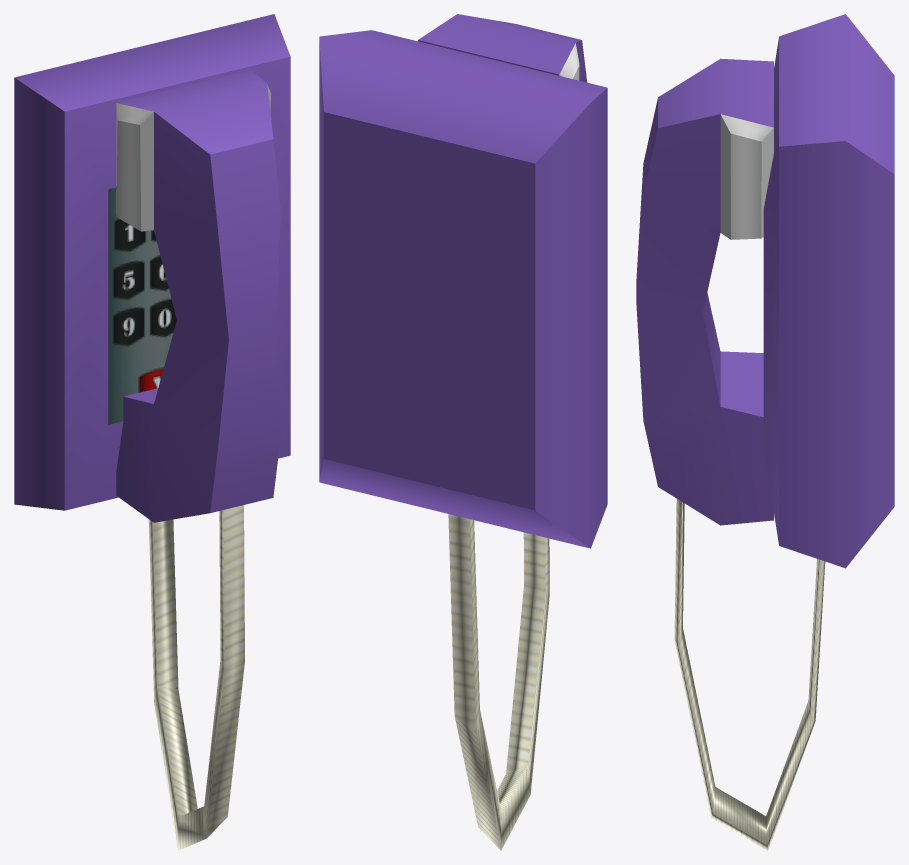
File: Wall_Phone_D.FBX
3 renders of one model, left to right at view 1: azimuth 30°, elevation 25°; view 2: azimuth 150°, elevation 25°; view 3: azimuth 270°, elevation 25°, orthographic. The views are drawn at different scales.
Visible parts, largest first — view 1: Wall_Phone; view 2: Wall_Phone; view 3: Wall_Phone.
Boxes of the visible parts, left/top/right/bottom form: Wall_Phone: left=14, top=14, right=290, bottom=850; Wall_Phone: left=319, top=14, right=607, bottom=850; Wall_Phone: left=636, top=14, right=894, bottom=850.
Size of the model in its own units: 57.35 by 163 by 49.28.
